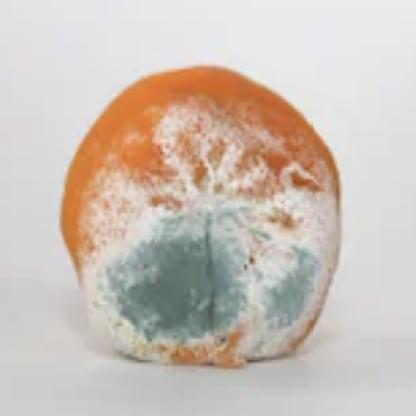rotten: (56, 61, 339, 368)
